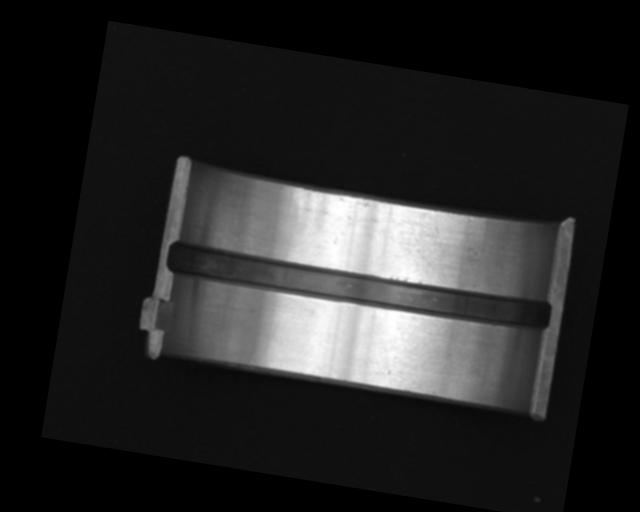gap: (162, 235, 555, 336)
